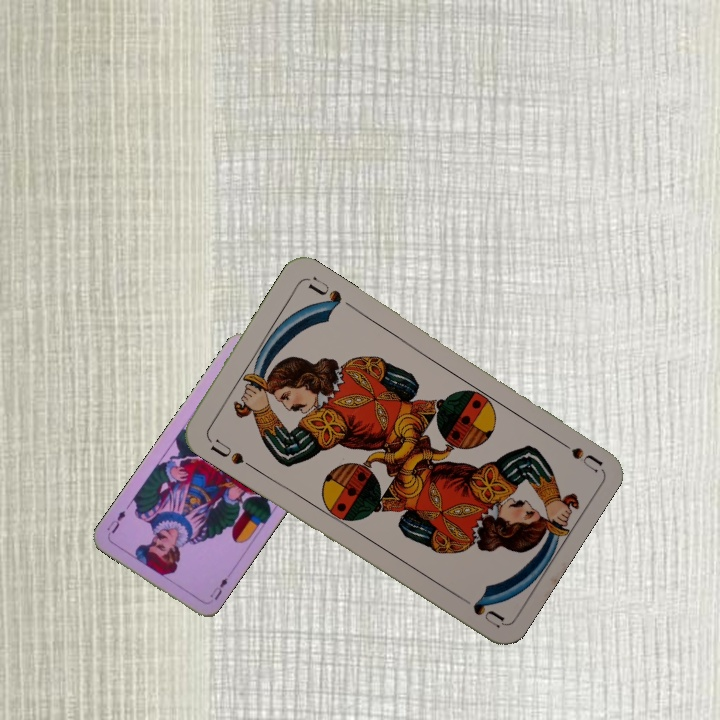EU: (206, 574, 230, 603)
SU: (549, 432, 604, 474), (204, 433, 256, 471)
